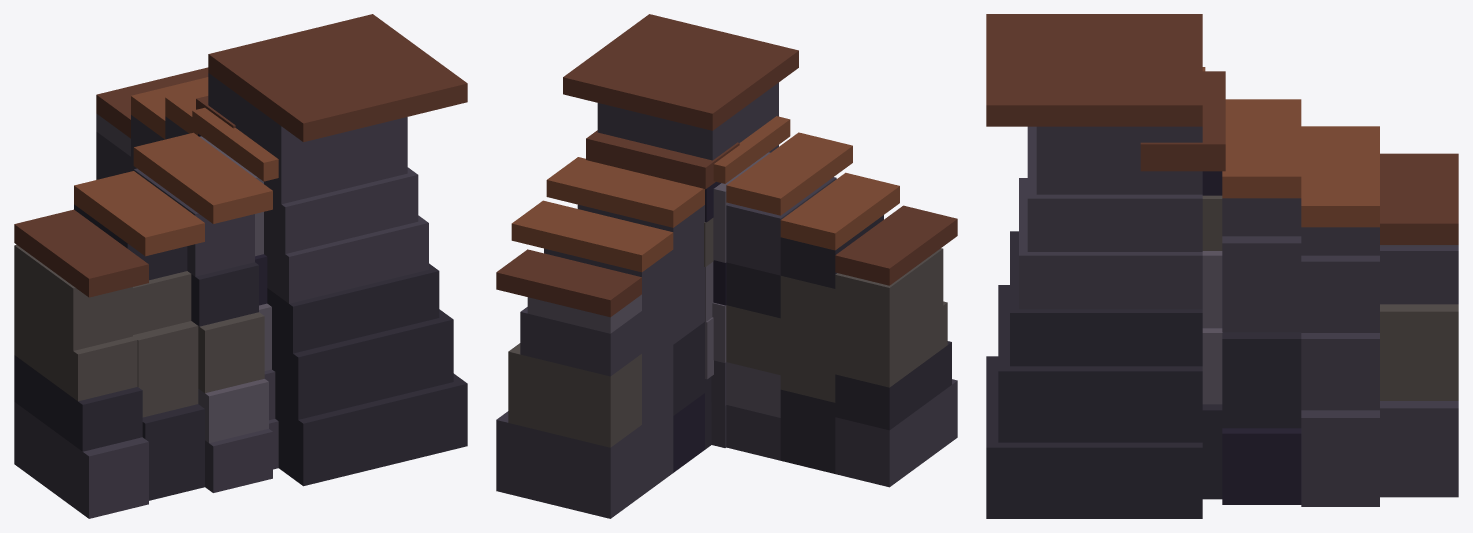
File: BasaltCornerRock.glb
3 renders of one model, left to right at view 1: azimuth 30°, elevation 25°; view 2: azimuth 150°, elevation 25°; view 3: azimuth 270°, elevation 25°, orthographic. The views are drawn at different scales.
Visible parts, largest first — view 1: BasaltCornerRock; view 2: BasaltCornerRock; view 3: BasaltCornerRock.
Part boxes in pixels (x1,y1,x2,y2): BasaltCornerRock: (14, 14, 467, 518); BasaltCornerRock: (496, 14, 957, 518); BasaltCornerRock: (986, 14, 1458, 518).
Size of the model in its own units: 12 by 11.6 by 12.
Materials: 1 (1 with a texture image).
